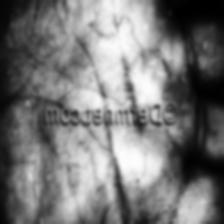Toxin: (134, 125, 190, 224), (154, 39, 198, 97), (0, 137, 10, 208)
